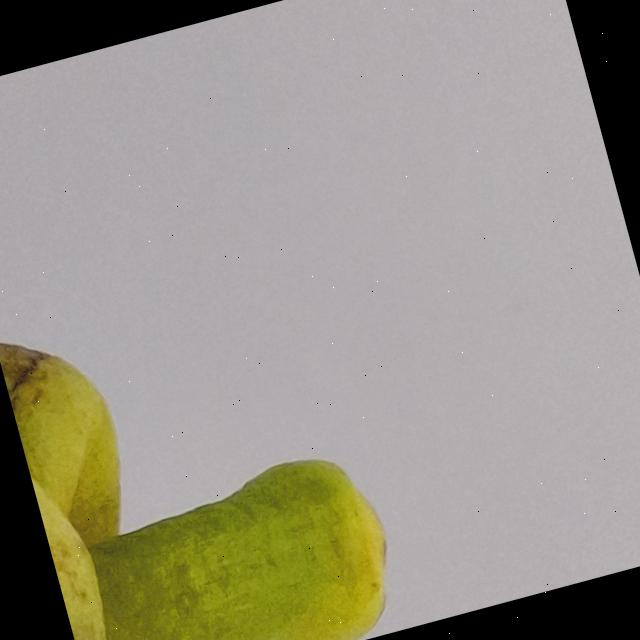mangosteen: (0, 133, 451, 640)
